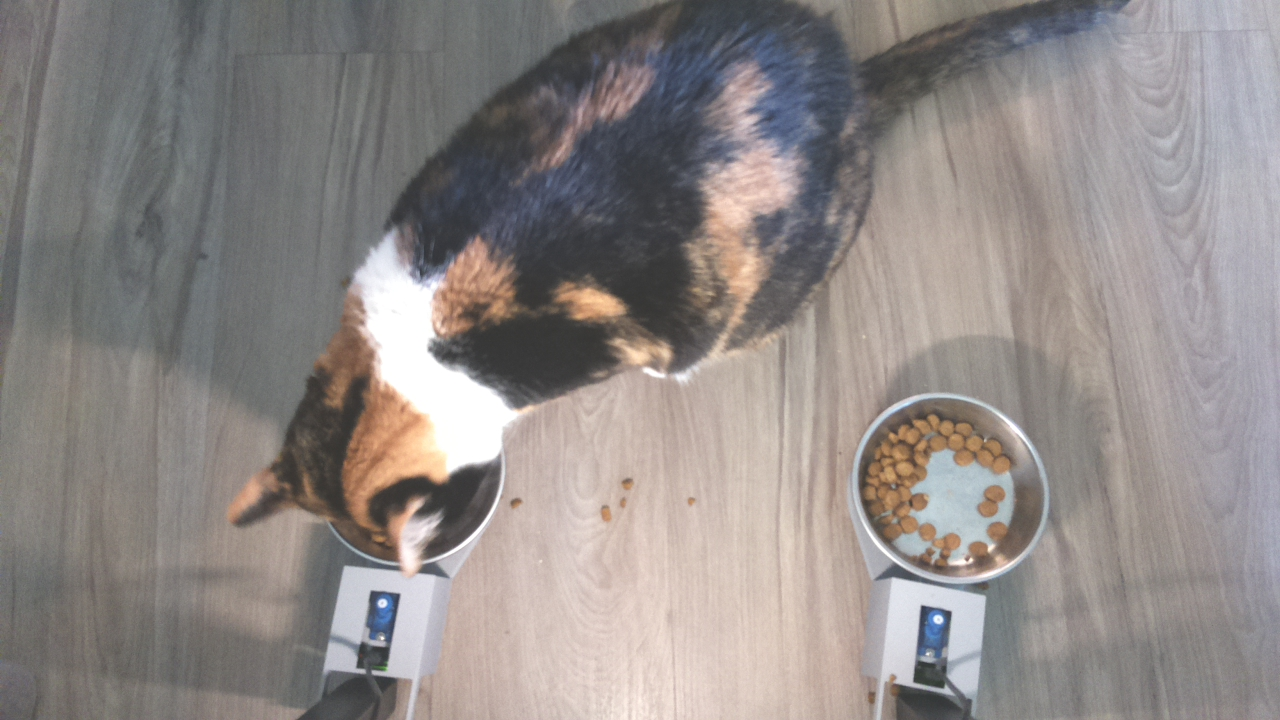bella_eating: (227, 294, 515, 579)
open_bowl: (845, 387, 1054, 589)
